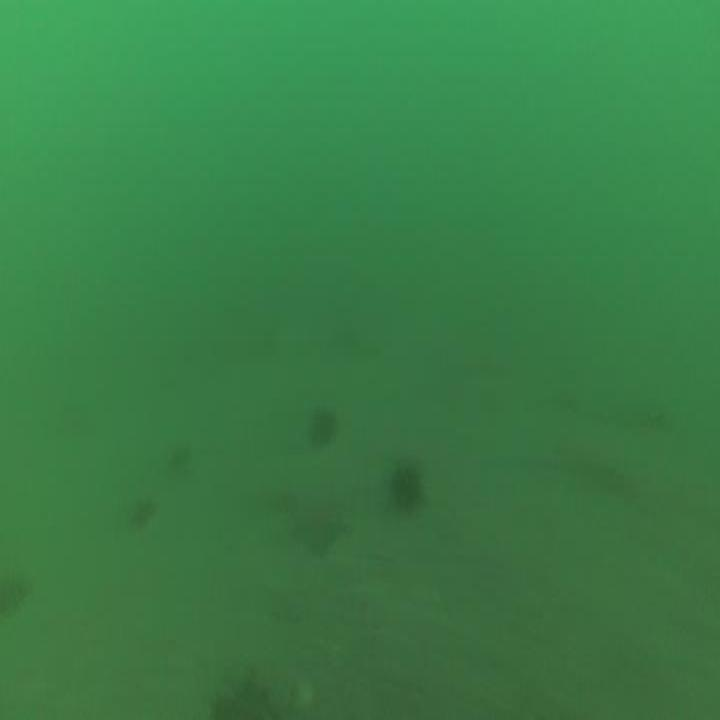echinus: (206, 666, 278, 720), (386, 455, 426, 519), (303, 404, 341, 454), (0, 567, 27, 626), (128, 493, 161, 535), (166, 436, 195, 476)
starfish: (285, 487, 352, 562)
